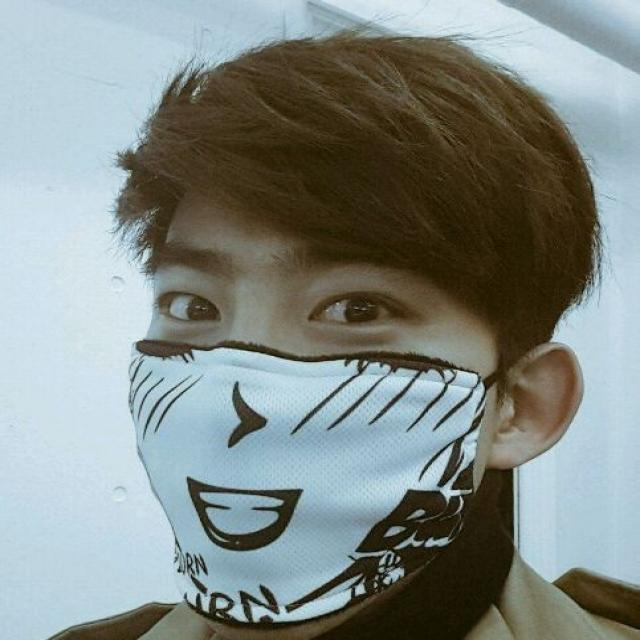mask: (131, 147, 489, 610)
